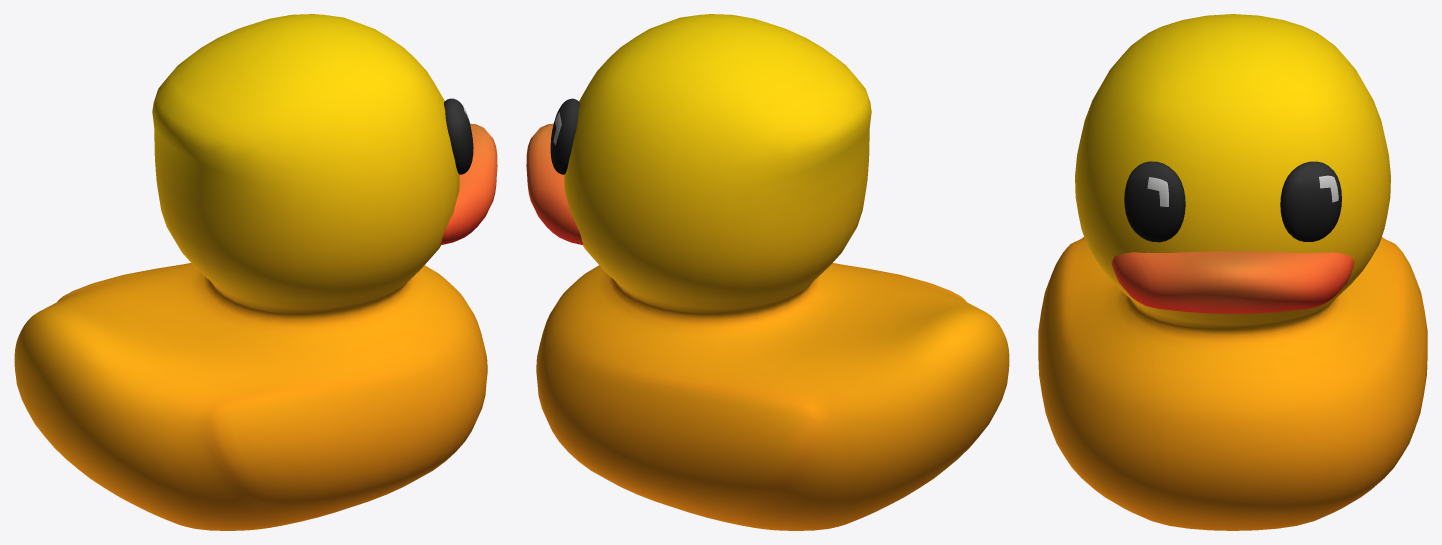
Rendered from rubberduck.glb.
3 renders of one model, left to right at view 1: azimuth 30°, elevation 25°; view 2: azimuth 150°, elevation 25°; view 3: azimuth 270°, elevation 25°, orthographic. The views are drawn at different scales.
Visible parts, largest first — view 1: Body_0, Beak_2, R.eye_1; view 2: Body_0, Beak_2, L.eye_3; view 3: Body_0, Beak_2, L.eye_3, R.eye_1.
Boxes of the visible parts, x1,y1,x2,y2 form: Body_0: (14,14,487,530); Beak_2: (440,123,497,244); R.eye_1: (444,98,473,174); Body_0: (536,14,1009,530); Beak_2: (526,123,583,244); L.eye_3: (550,98,579,174); Body_0: (1038,14,1427,530); Beak_2: (1111,251,1354,313); L.eye_3: (1280,161,1341,241); R.eye_1: (1124,161,1185,242).
Bounding box in the file's own units: 0.5637 × 0.5464 × 0.4029.
Materials: 1 (1 with a texture image).
